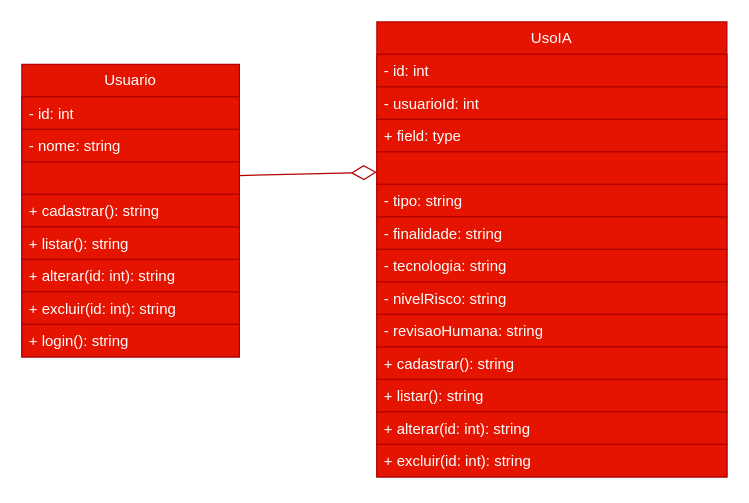
Some shapes in this 749 by 503 pixel diagram are drawn without their labels. Here are the shapes that lost their labels. From the top down, the centre of each, then its label:
At (x=130, y=177): "- email: string".
At (x=551, y=167): "- sistema: string".
